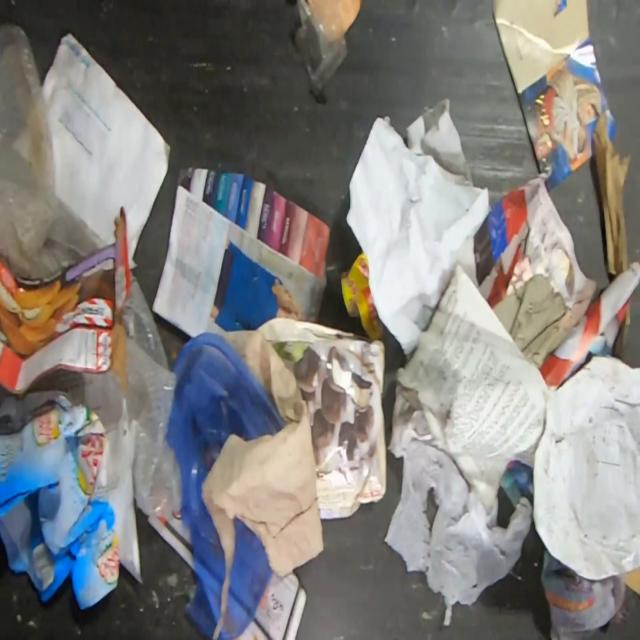cardboard: (152, 167, 331, 336), (0, 389, 120, 612), (257, 316, 388, 520), (0, 209, 126, 396)
rigid_plastic: (168, 333, 286, 639), (296, 0, 348, 97)
soft_plastic: (0, 20, 117, 286), (126, 265, 183, 517)
